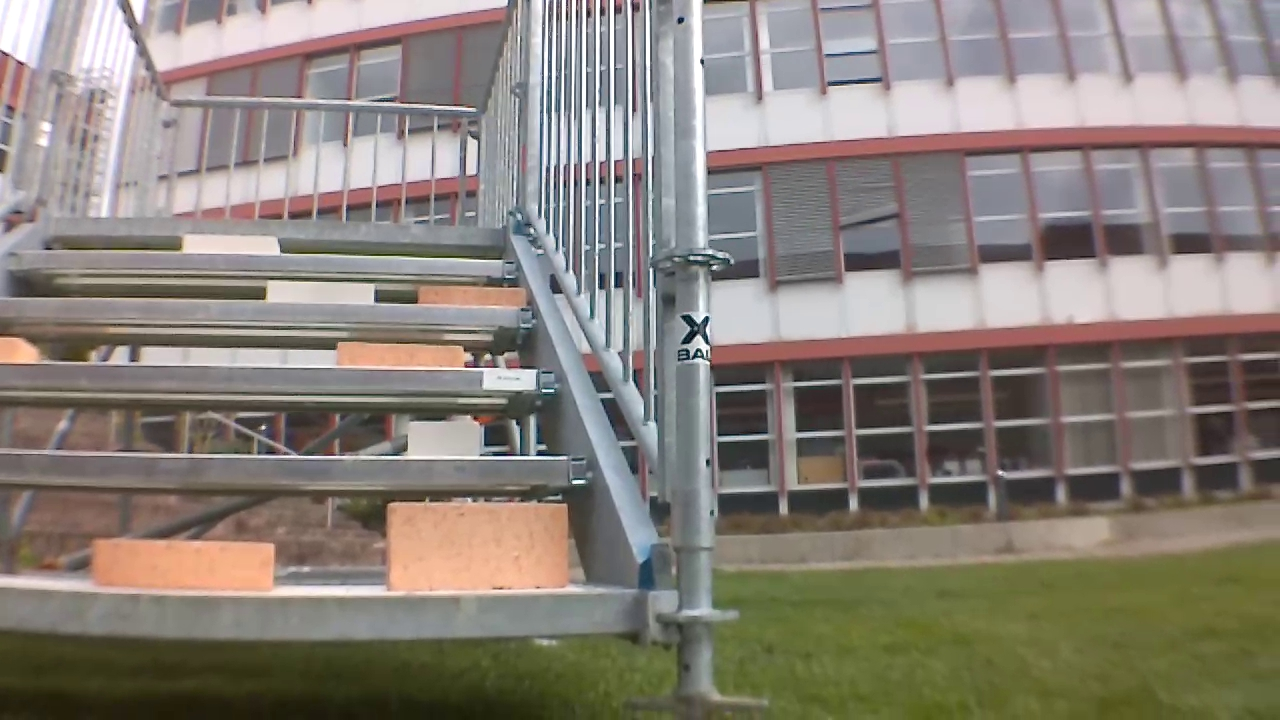brick: (384, 493, 576, 602), (72, 540, 271, 579), (320, 333, 458, 369), (253, 277, 381, 310), (409, 414, 487, 455), (415, 283, 530, 310), (180, 236, 278, 252)
edge: (0, 288, 540, 326), (0, 364, 553, 391), (38, 215, 503, 238), (0, 250, 519, 267)
stairs: (0, 0, 729, 687)
steps: (0, 207, 636, 649)
